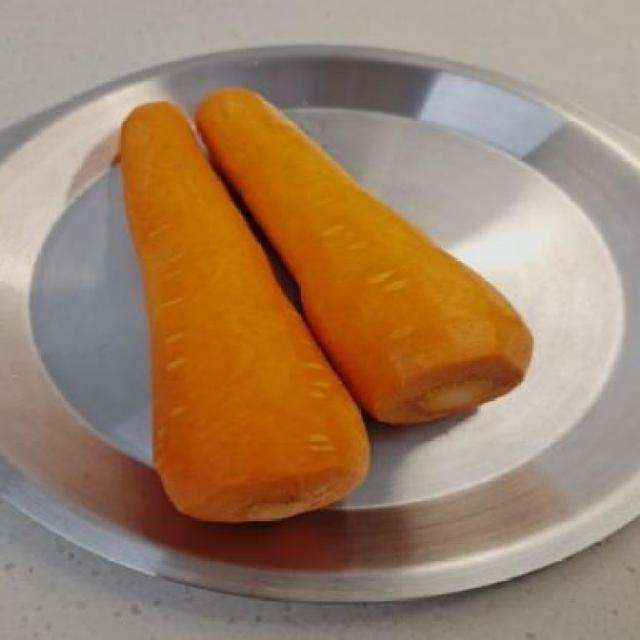carrot: (207, 80, 541, 428), (111, 101, 366, 530)
